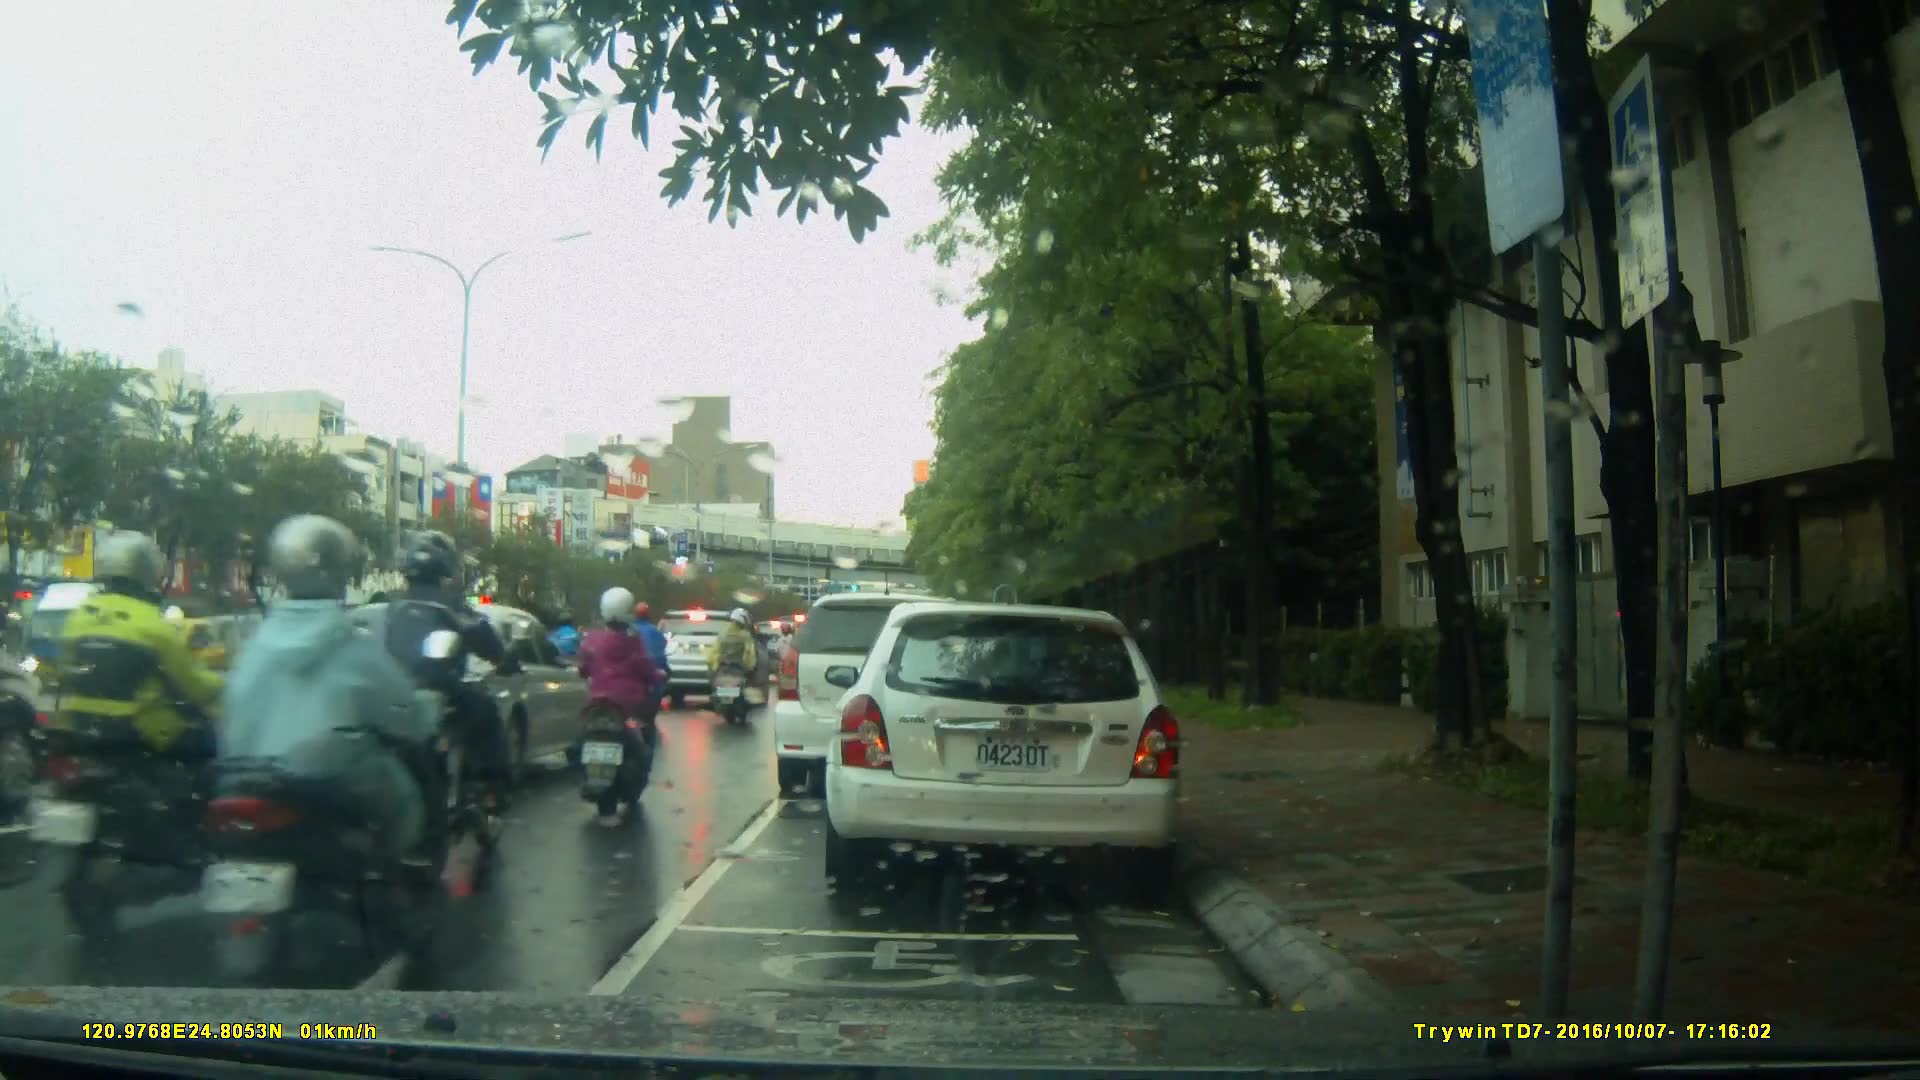rider: (207, 510, 468, 995), (8, 524, 241, 950), (351, 529, 514, 887), (569, 590, 661, 823), (619, 602, 672, 716), (713, 609, 759, 731), (550, 605, 596, 711), (773, 623, 808, 696)
vehicle: (822, 604, 1188, 883), (276, 599, 607, 800), (774, 595, 995, 802), (20, 576, 161, 697), (644, 612, 772, 706)
